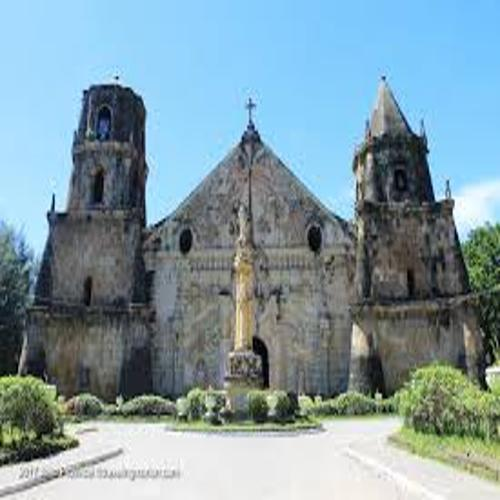Miagao Church: (31, 65, 487, 409)
